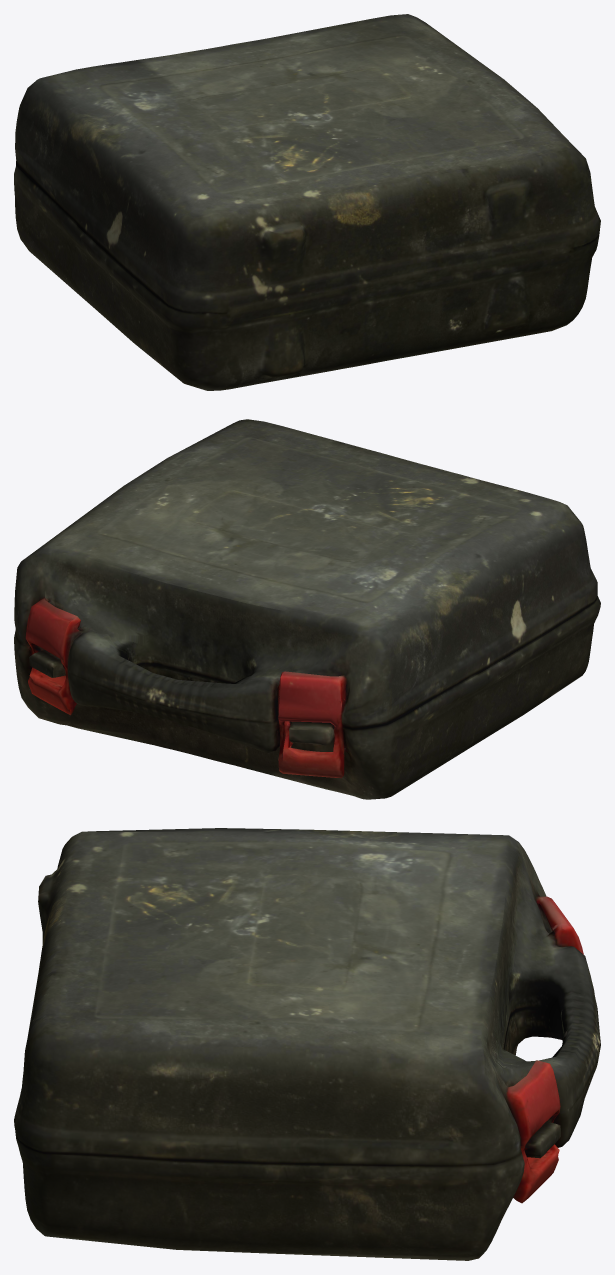
File: PB47_suitcase_low_max.FBX
3 views of the same model, one above another, from view 1: azimuth 30°, elevation 25°; view 2: azimuth 150°, elevation 25°; view 3: azimuth 270°, elevation 25° (orthographic). The views are drawn at different scales.
Parts seen in each view (by area): view 1: middle_Volume137; view 2: middle_Volume137; view 3: middle_Volume137.
Part boxes in pixels (box(x1,y1,x2,y2)): middle_Volume137: box(14, 14, 600, 390); middle_Volume137: box(14, 419, 600, 799); middle_Volume137: box(14, 828, 600, 1260).
Size of the model in its own units: 20.04 by 8.85 by 20.23.
Materials: 1 (1 with a texture image).
